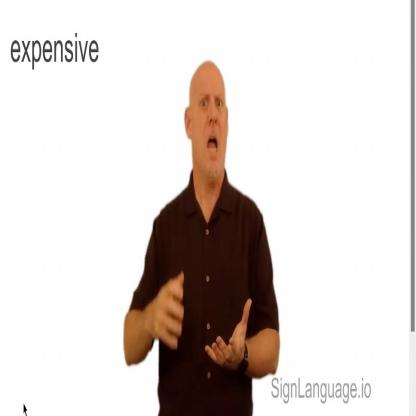Expensive: (124, 56, 280, 416)
